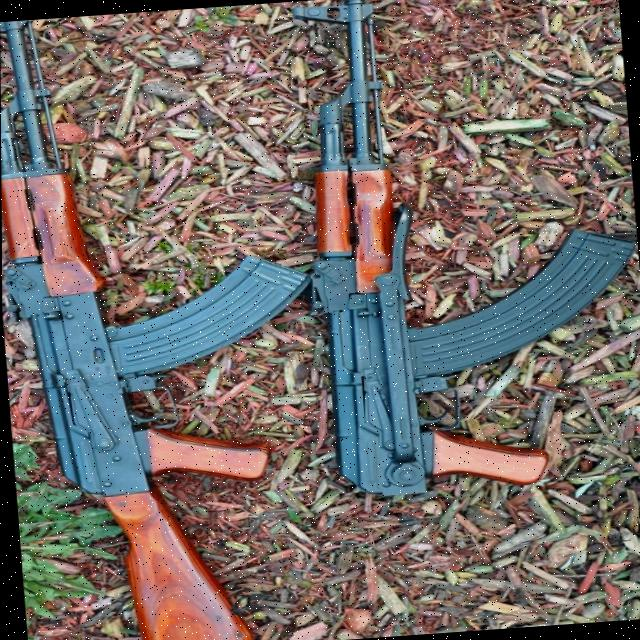firearm: (0, 1, 332, 640), (294, 0, 640, 500)
